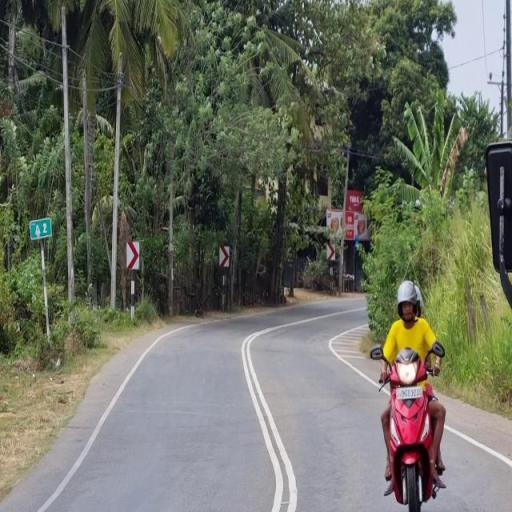double_white_line: (240, 326, 294, 511), (445, 427, 512, 468)
